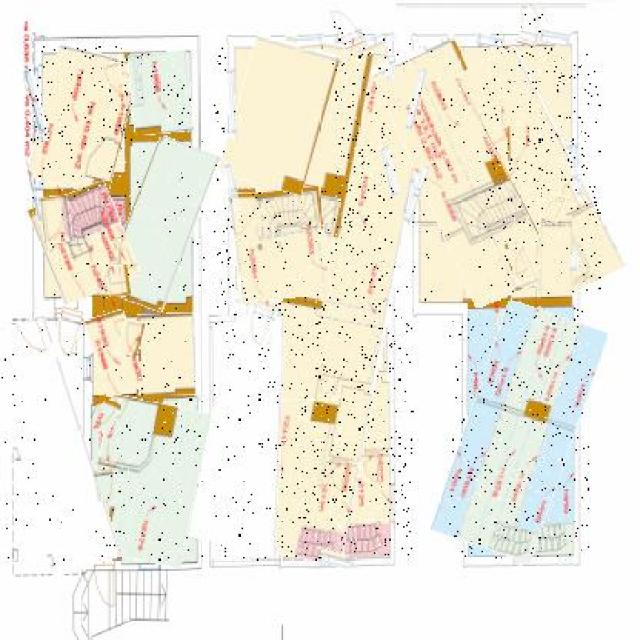door: (332, 4, 365, 54), (247, 297, 276, 348), (52, 307, 80, 358), (42, 197, 72, 243), (511, 243, 535, 288), (117, 318, 143, 358), (520, 6, 545, 46), (95, 400, 118, 434), (106, 62, 125, 103), (94, 469, 117, 502), (237, 192, 257, 228), (508, 126, 529, 160), (506, 240, 529, 271), (108, 266, 130, 297), (543, 194, 565, 223), (363, 449, 380, 480)
window: (28, 68, 46, 140), (409, 165, 425, 226), (411, 69, 423, 131), (226, 163, 240, 215), (383, 147, 397, 196), (569, 142, 580, 200), (228, 70, 237, 138), (540, 29, 571, 46), (359, 35, 386, 54), (320, 552, 351, 568), (31, 169, 40, 222), (297, 35, 323, 51), (477, 34, 505, 48), (386, 57, 396, 81), (572, 252, 578, 274)
zone: (214, 40, 414, 560), (395, 37, 534, 305), (449, 306, 591, 559), (483, 48, 600, 294), (0, 318, 103, 576), (88, 398, 203, 564), (214, 317, 281, 560), (116, 138, 207, 311), (228, 38, 330, 191), (35, 48, 134, 192), (230, 188, 328, 302), (36, 186, 132, 300), (131, 52, 192, 134), (138, 314, 196, 395), (90, 311, 142, 397), (538, 217, 572, 297)
